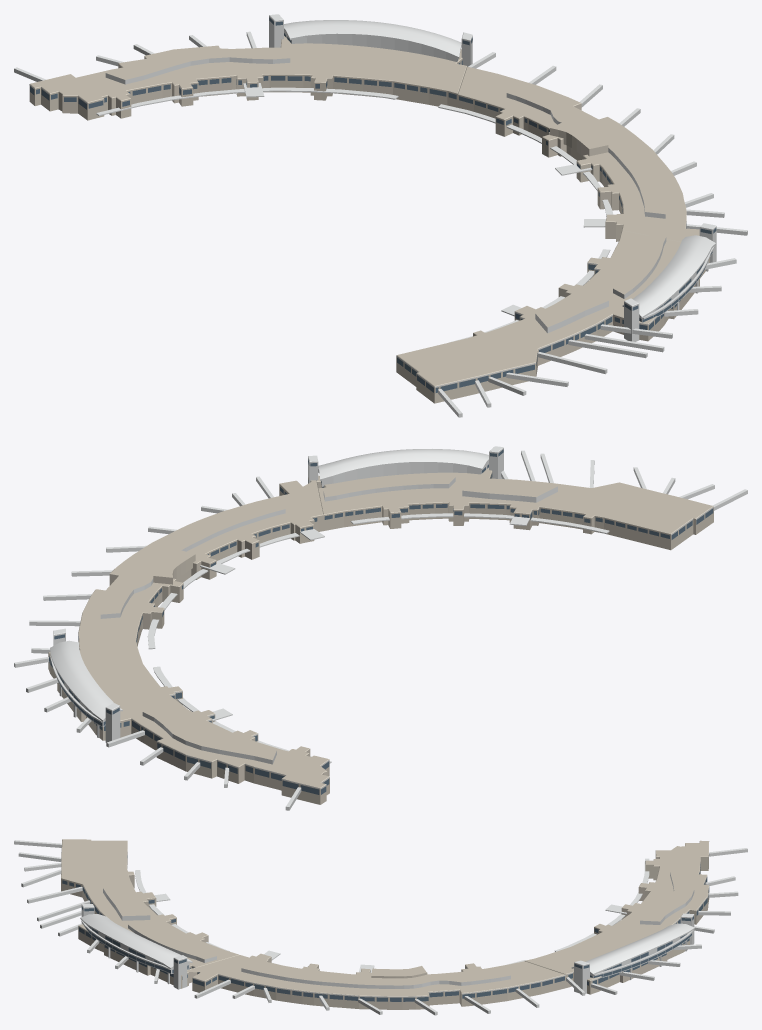
File: dal-dfw-terminal-e.glb
The picture shows the model from 3 angles, top to bottom: view 1: azimuth 30°, elevation 25°; view 2: azimuth 150°, elevation 25°; view 3: azimuth 270°, elevation 25°; orthographic projection. The views are drawn at different scales.
Visible parts, largest first — view 1: DFW Airport Terminal E; view 2: DFW Airport Terminal E; view 3: DFW Airport Terminal E.
Part boxes in pixels (x1,y1,x2,y2): DFW Airport Terminal E: [14, 14, 747, 417]; DFW Airport Terminal E: [14, 446, 747, 810]; DFW Airport Terminal E: [14, 839, 747, 1015].
Size of the model in its own units: 362 by 28.9 by 651.
